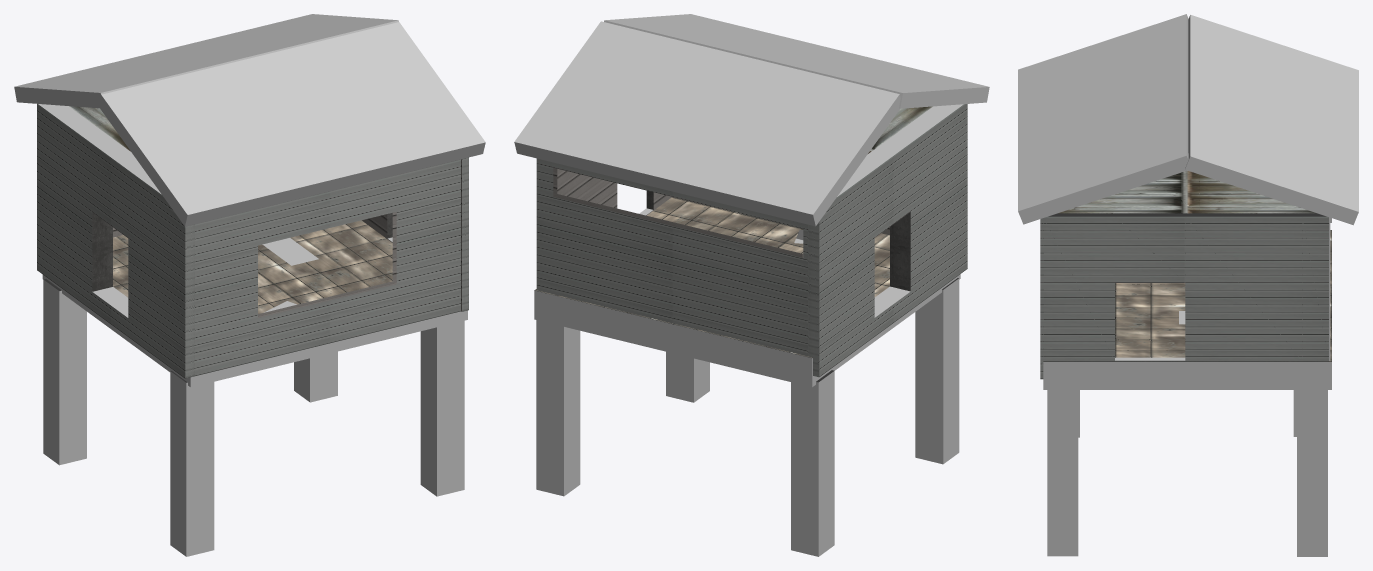
The model's file is Hut1.fbx.
3 renders of one model, left to right at view 1: azimuth 30°, elevation 25°; view 2: azimuth 150°, elevation 25°; view 3: azimuth 270°, elevation 25°, orthographic. The views are drawn at different scales.
Visible parts, largest first — view 1: Roof_24, wall11, wall9, floor3, Roof_27, Leg10, Leg11, Leg9, door5, Leg12, wall10, roof3; view 2: Roof_27, wall12, wall9, floor3, Roof_24, Leg9, Leg12, Leg10, wall10, door5, Leg11, roof3; view 3: wall10, Roof_27, Roof_24, floor3, roof3, Leg11, Leg12.
Part boxes in pixels (<box>): Roof_24: <box>98,22,485,226</box>; wall11: <box>195,159,460,376</box>; wall9: <box>37,104,194,378</box>; floor3: <box>42,220,467,387</box>; Roof_27: <box>14,14,398,108</box>; Leg10: <box>170,371,214,556</box>; Leg11: <box>420,320,464,496</box>; Leg9: <box>43,279,86,465</box>; door5: <box>92,212,128,317</box>; Leg12: <box>294,351,337,402</box>; wall10: <box>362,157,468,311</box>; roof3: <box>69,106,130,151</box>; Roof_27: <box>514,21,900,226</box>; wall12: <box>537,158,808,356</box>; wall9: <box>802,104,967,377</box>; floor3: <box>534,197,960,387</box>; Roof_24: <box>604,14,989,108</box>; Leg9: <box>791,370,834,556</box>; Leg12: <box>536,320,580,496</box>; Leg10: <box>915,278,959,464</box>; wall10: <box>536,158,671,289</box>; door5: <box>874,212,910,317</box>; Leg11: <box>666,351,709,402</box>; roof3: <box>868,106,932,153</box>; wall10: <box>1040,213,1328,379</box>; Roof_27: <box>1185,14,1358,225</box>; Roof_24: <box>1018,14,1188,224</box>; floor3: <box>1043,230,1331,389</box>; roof3: <box>1058,170,1331,222</box>; Leg11: <box>1047,390,1078,556</box>; Leg12: <box>1297,387,1327,556</box>.
Bounding box in the file's own units: 2160 × 2185 × 2854.
